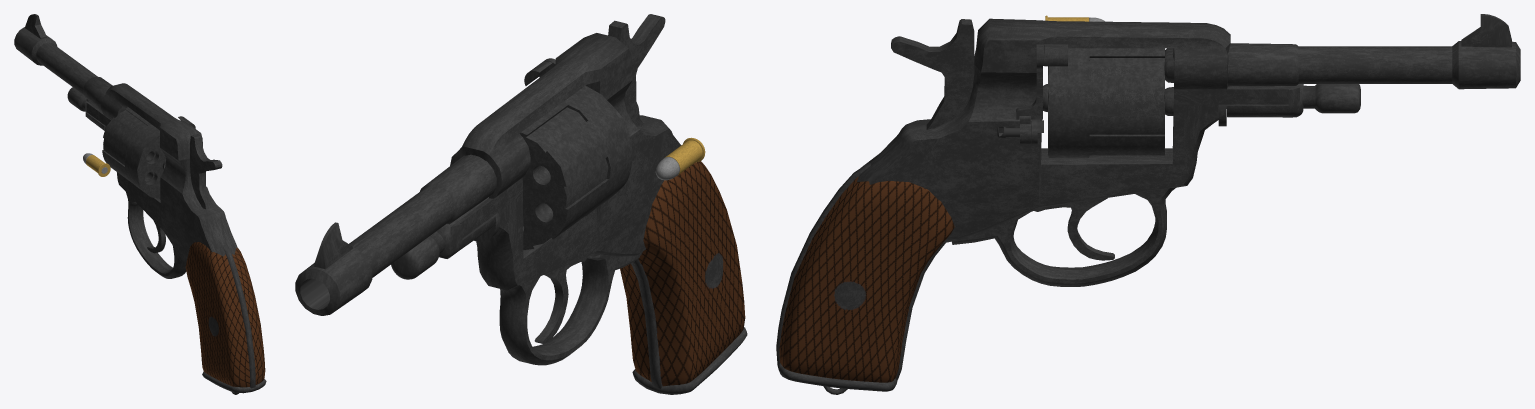
Rendered from revolver.fbx.
3 renders of one model, left to right at view 1: azimuth 30°, elevation 25°; view 2: azimuth 150°, elevation 25°; view 3: azimuth 270°, elevation 25°, orthographic. The views are drawn at different scales.
Parts seen in each view (by area): view 1: revolver, charger, bullet 5; view 2: revolver, charger, bullet 5; view 3: revolver, charger.
Boxes of the visible parts, box(x1,y1,x2,y2) form: revolver: box(14, 14, 266, 394); charger: box(102, 107, 165, 198); bullet 5: box(83, 153, 110, 176); revolver: box(295, 14, 747, 394); charger: box(519, 86, 632, 249); bullet 5: box(655, 137, 705, 180); revolver: box(776, 14, 1520, 394); charger: box(1048, 48, 1164, 157).
Bounding box in the file's own units: 4.1 × 8.74 × 15.51.
